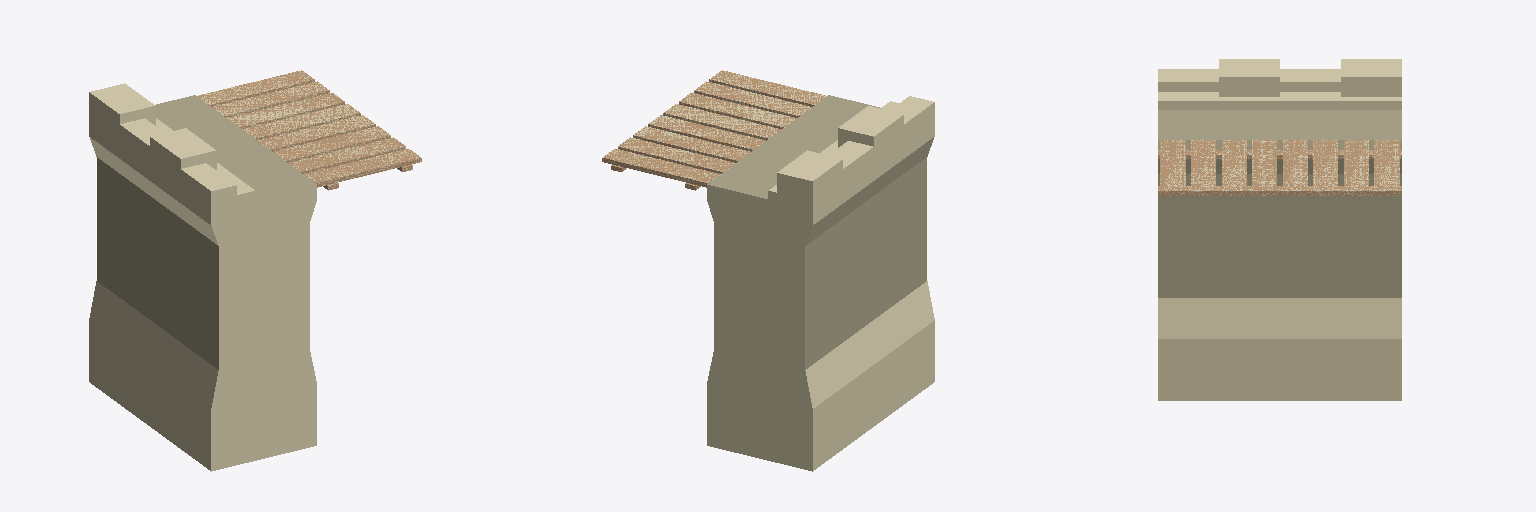
The model's file is wallNarrowWood.obj.
3 renders of one model, left to right at view 1: azimuth 30°, elevation 25°; view 2: azimuth 150°, elevation 25°; view 3: azimuth 270°, elevation 25°, orthographic.
Parts seen in each view (by area): view 1: wallNarrowWood, bridge 3; view 2: wallNarrowWood, bridge 3; view 3: wallNarrowWood, bridge 3.
Part boxes in pixels (x1,y1,x2,y2): wallNarrowWood: (89,83,316,471); bridge 3: (197,70,421,190); wallNarrowWood: (707,95,934,471); bridge 3: (602,70,826,190); wallNarrowWood: (1158,59,1401,400); bridge 3: (1158,140,1401,195).
Bounding box in the file's own units: 10 × 13.1 × 10.